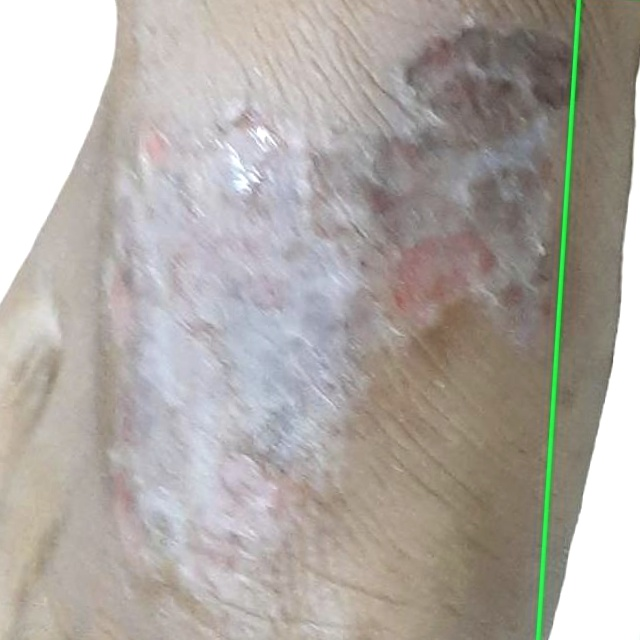Contact Dermatitis: (537, 0, 639, 639)
